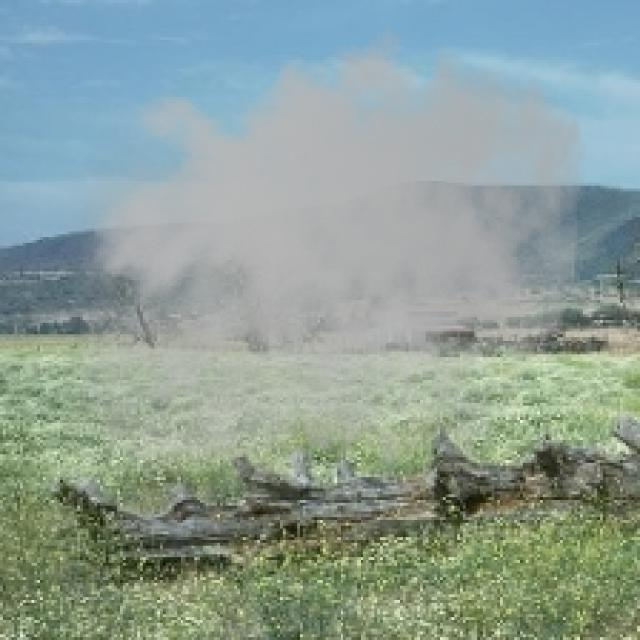Smoke: (42, 8, 588, 534)
